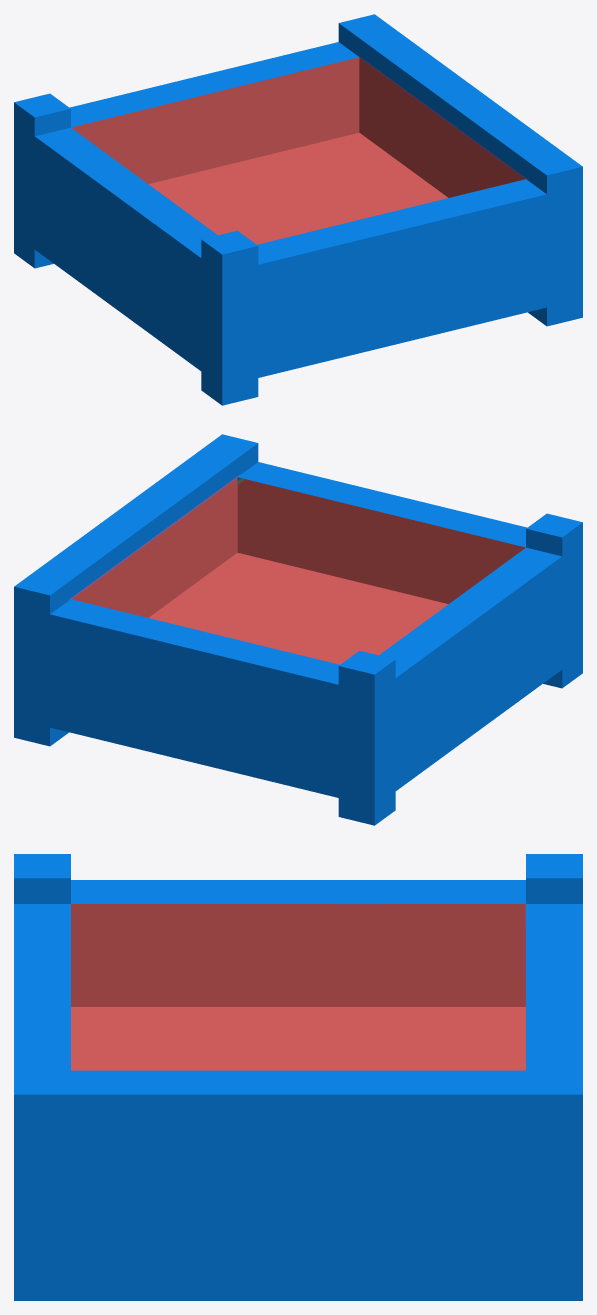
The model's file is conveyor 7.fbx.
The picture shows the model from 3 angles, top to bottom: view 1: azimuth 30°, elevation 25°; view 2: azimuth 150°, elevation 25°; view 3: azimuth 270°, elevation 25°; orthographic projection. The views are drawn at different scales.
Visible parts, largest first — view 1: Conveyor.008; view 2: Conveyor.008; view 3: Conveyor.008.
Part boxes in pixels (x1,y1,x2,y2): Conveyor.008: (14, 14, 582, 405); Conveyor.008: (14, 434, 582, 825); Conveyor.008: (14, 854, 582, 1300).
Size of the model in its own units: 200 by 80 by 200.
1 material, 1 textured.
